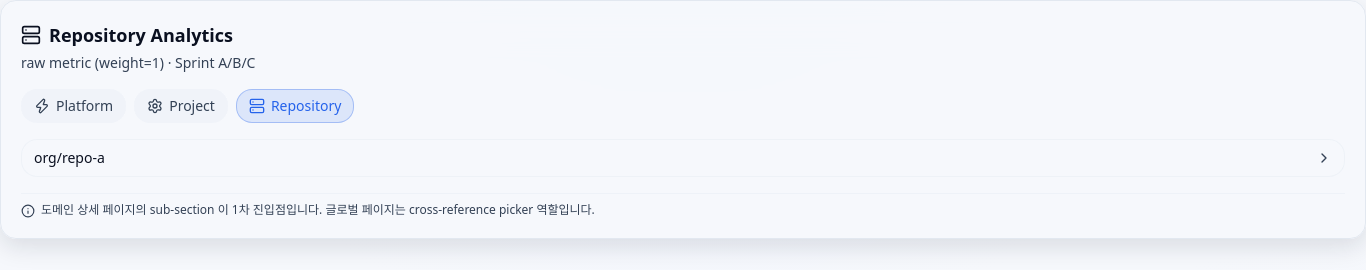
DomainPicker › switches to Project scope → entity link with /projects/[id] href
Click the tab with test id "domain-picker-scope-project".
click(181, 106)  # box [134, 89, 228, 123]
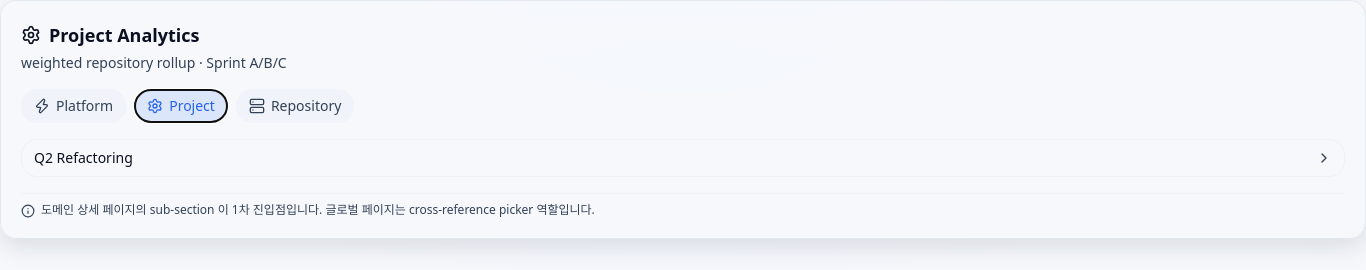
expect the heading "Project Analytics" is shown: met, box [21, 23, 200, 47]
